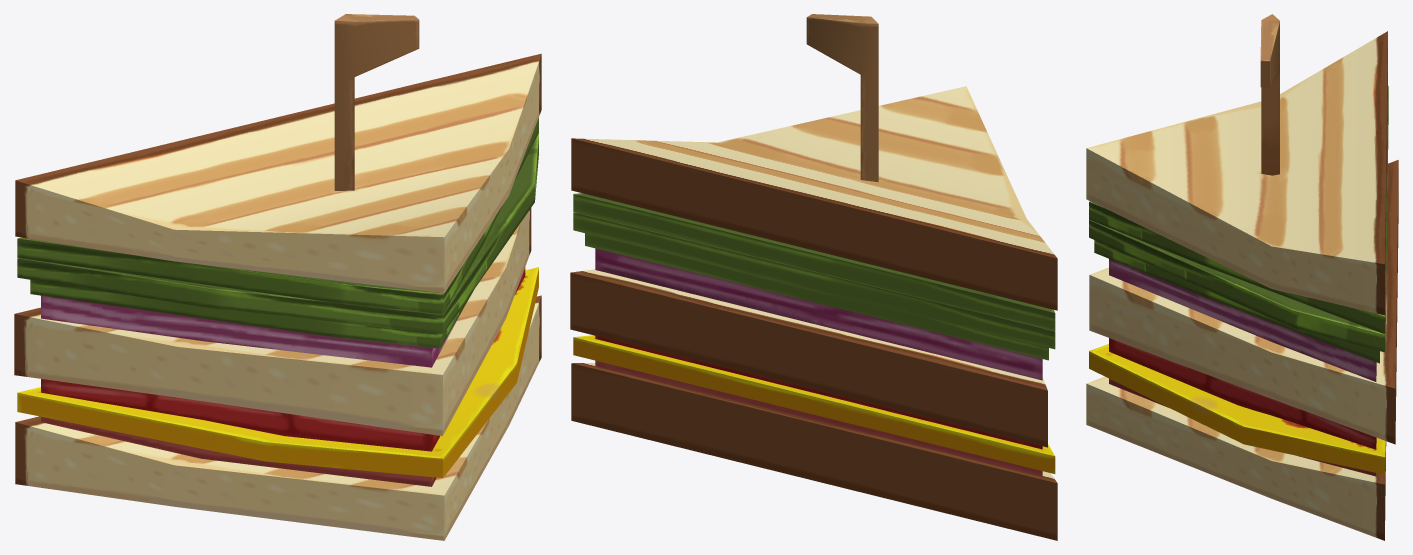
Rendered from sandwich.FBX.
3 views of the same model, side by side, from view 1: azimuth 30°, elevation 25°; view 2: azimuth 150°, elevation 25°; view 3: azimuth 270°, elevation 25° (orthographic). The views are drawn at different scales.
Parts seen in each view (by area): view 1: sandwich; view 2: sandwich; view 3: sandwich.
Part boxes in pixels (box(x1,y1,x2,y2)): sandwich: box(14, 14, 541, 540); sandwich: box(570, 14, 1057, 540); sandwich: box(1086, 14, 1398, 540).
Bounding box in the file's own units: 5.77 × 4.7 × 3.27.
